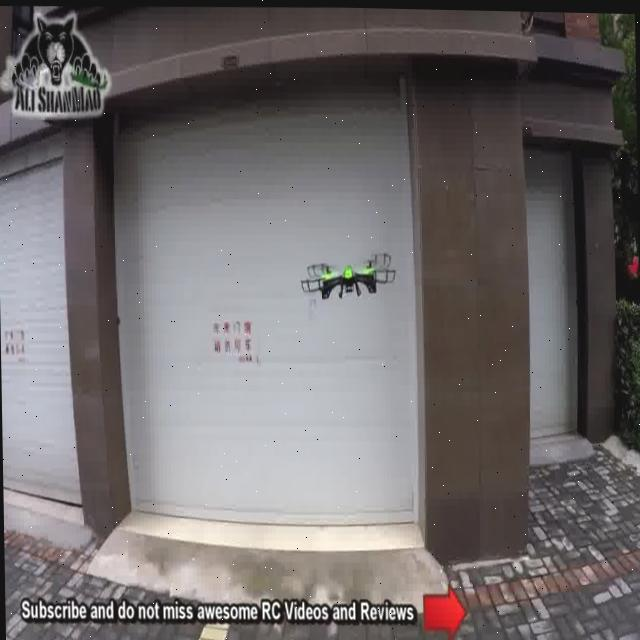drone: (294, 239, 404, 316)
